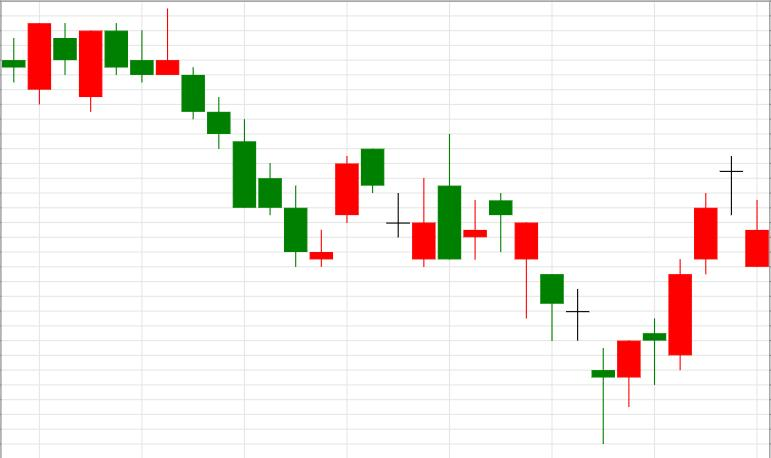morning_star_rise: (182, 66, 359, 267)
